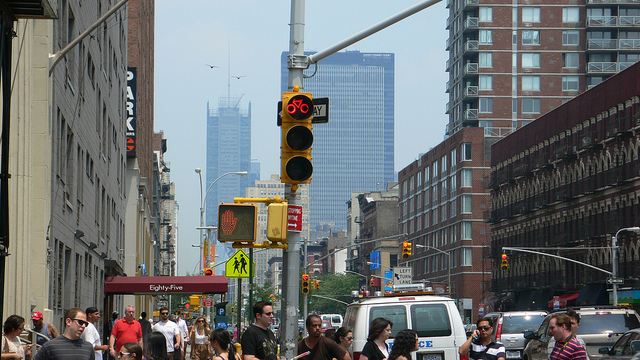Pedestrians: (224, 252, 257, 283)
Traffic light: (272, 84, 330, 197), (398, 241, 417, 267)
